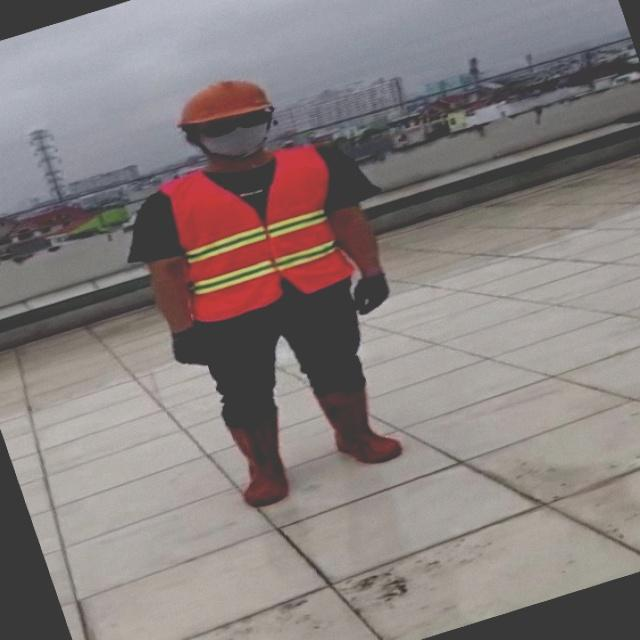helmet: (176, 74, 277, 125)
safety_vest: (174, 140, 360, 314)
